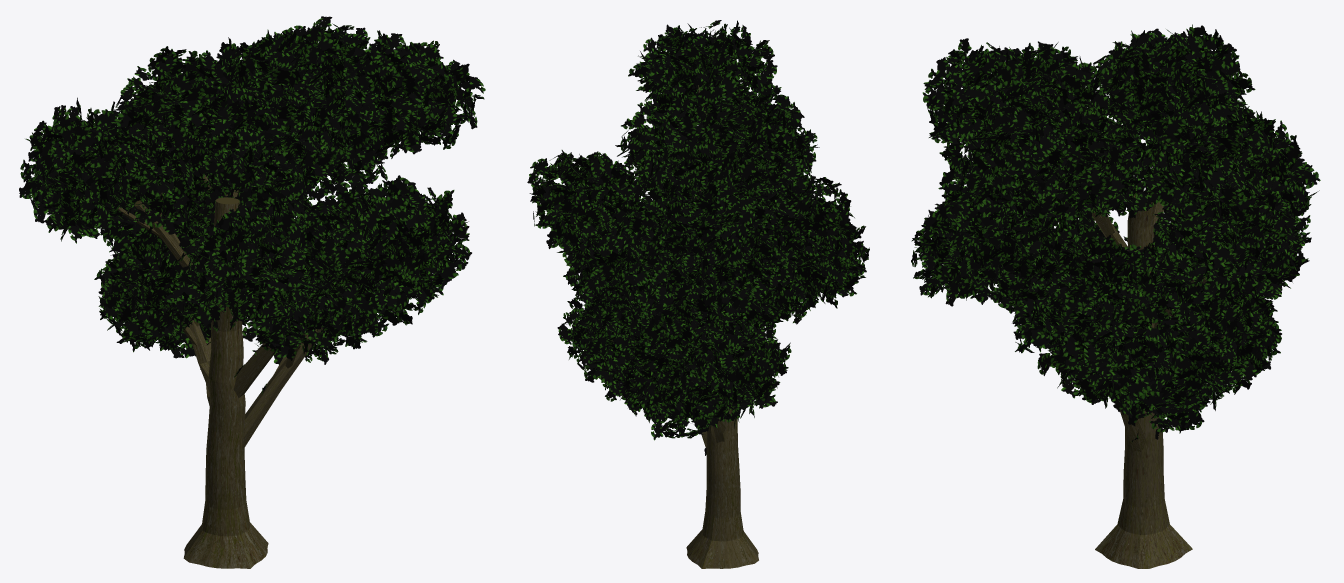
File: broadleaf_giant_v01.fbx
The picture shows the model from 3 angles, left to right: view 1: azimuth 30°, elevation 25°; view 2: azimuth 150°, elevation 25°; view 3: azimuth 270°, elevation 25°; orthographic projection. The views are drawn at different scales.
Parts seen in each view (by area): view 1: broadleaf_giant_v01; view 2: broadleaf_giant_v01; view 3: broadleaf_giant_v01.
Part boxes in pixels (x1,y1,x2,y2): broadleaf_giant_v01: [19, 16, 485, 568]; broadleaf_giant_v01: [527, 20, 869, 568]; broadleaf_giant_v01: [911, 24, 1320, 568].
Bounding box in the file's own units: 2518 × 2293 × 3268.
2 materials, 2 textured.
